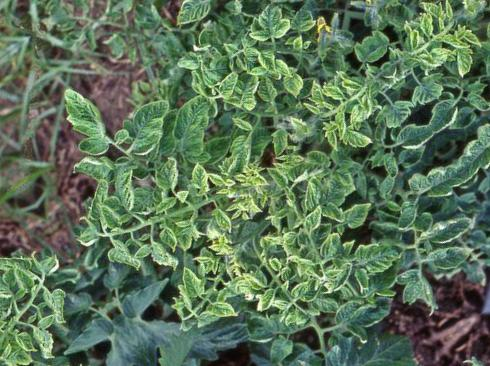Tomato mold leaf: (313, 296, 431, 366), (38, 73, 124, 169), (153, 87, 231, 164), (400, 147, 475, 221), (114, 86, 191, 158), (382, 258, 450, 329), (406, 201, 476, 263), (418, 227, 484, 291), (293, 164, 359, 227), (348, 225, 409, 283), (63, 139, 121, 196), (103, 157, 157, 213), (238, 0, 296, 52), (386, 113, 440, 165), (332, 191, 383, 239), (163, 0, 215, 38), (334, 115, 373, 157), (180, 158, 219, 199), (263, 124, 299, 161), (210, 67, 247, 102), (277, 69, 312, 106)
